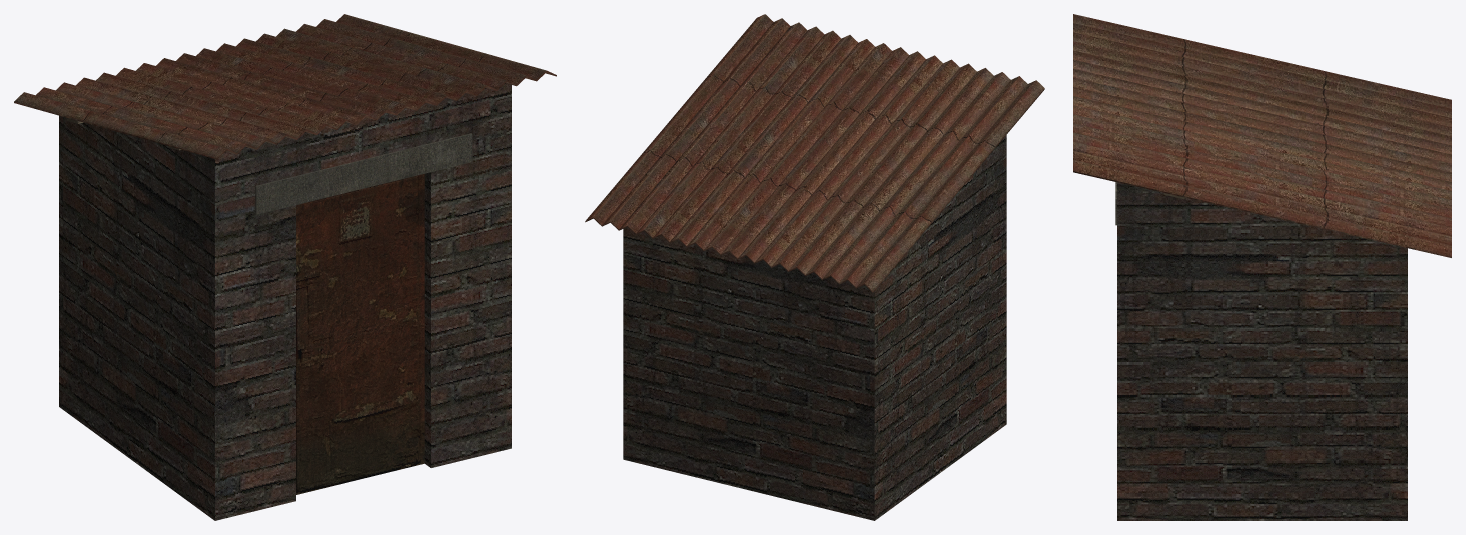
Rendered from shed_ax_1.glb.
3 renders of one model, left to right at view 1: azimuth 30°, elevation 25°; view 2: azimuth 150°, elevation 25°; view 3: azimuth 270°, elevation 25°, orthographic. The views are drawn at different scales.
Parts seen in each view (by area): view 1: shed_ax_1, door_hr_7; view 2: shed_ax_1; view 3: shed_ax_1.
Part boxes in pixels (<box>): shed_ax_1: <box>14,14,556,520</box>; door_hr_7: <box>296,174,424,494</box>; shed_ax_1: <box>585,14,1044,520</box>; shed_ax_1: <box>1073,14,1451,520</box>.
Bounding box in the file's own units: 2.52 × 2.77 × 2.6.
5 materials, 5 textured.
